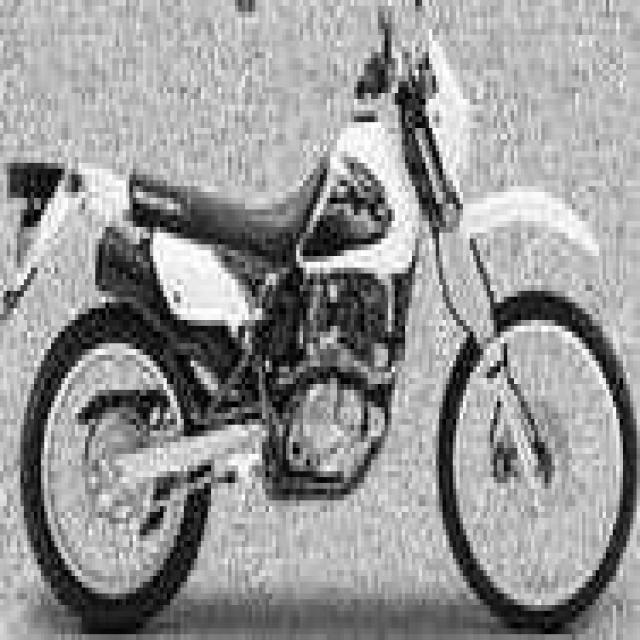Motorcycle: (22, 43, 629, 628)
